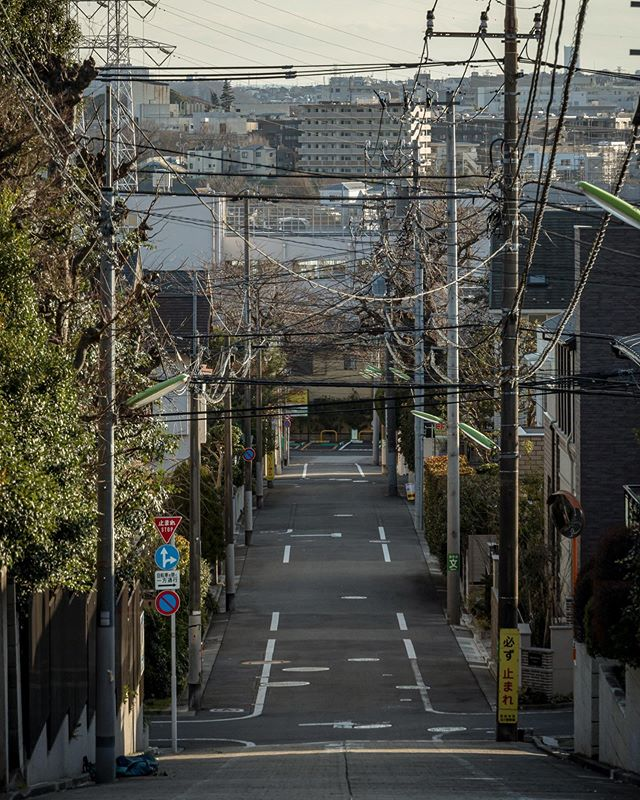building: (531, 221, 640, 720), (457, 89, 627, 178), (129, 91, 281, 183), (299, 88, 437, 182)
street: (144, 442, 532, 800)
